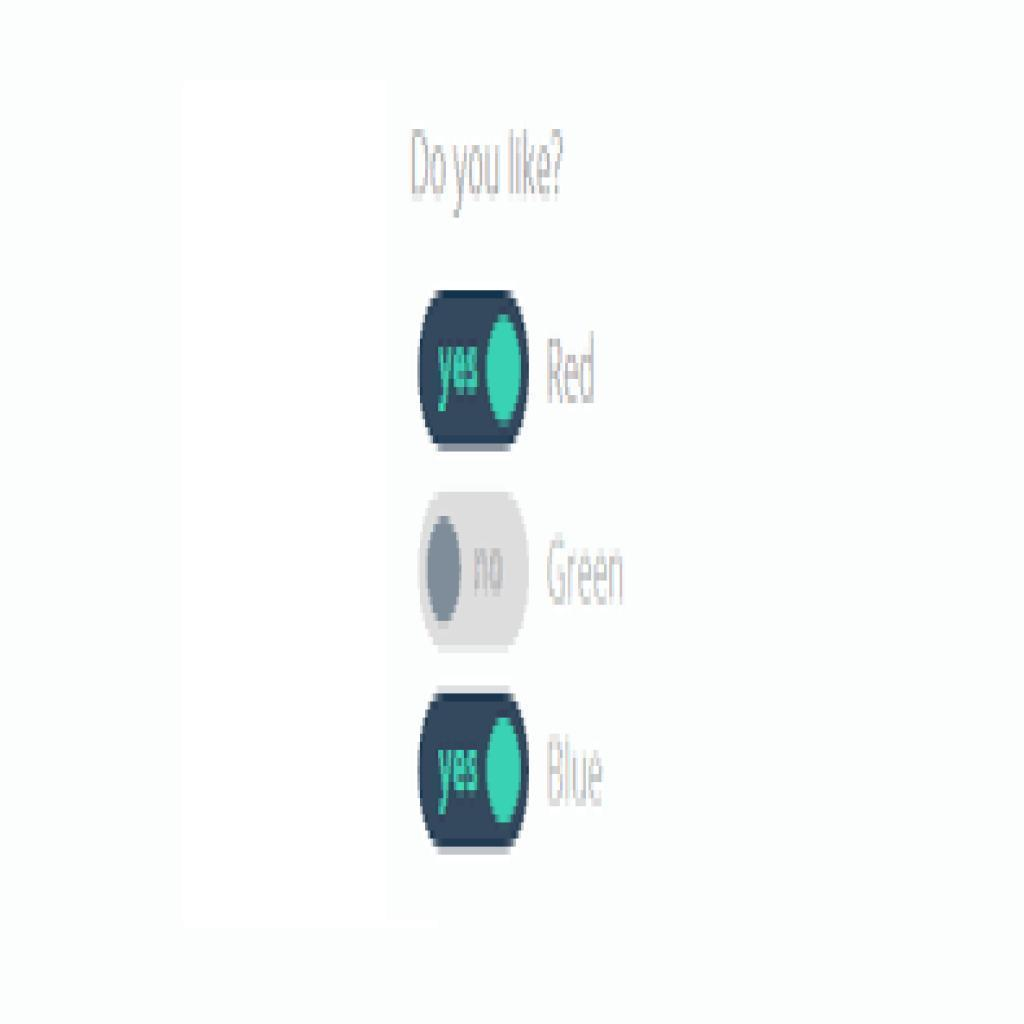switch: (416, 694, 532, 856), (414, 493, 531, 652), (419, 289, 530, 452)
